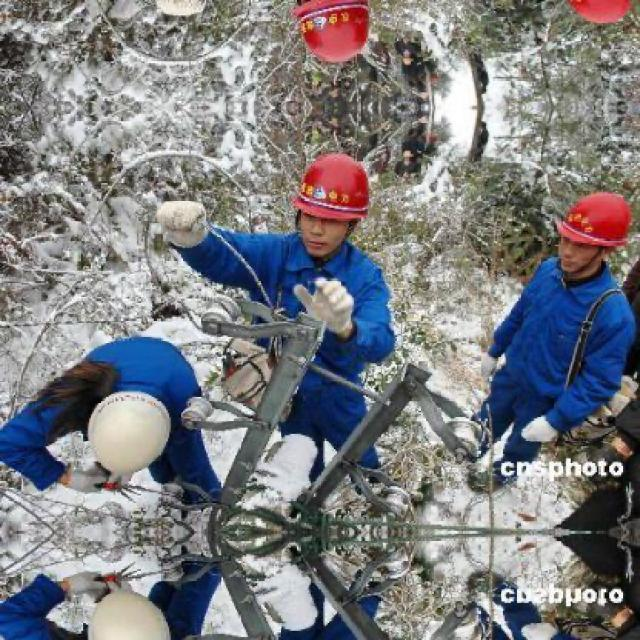helmet: (286, 142, 380, 256), (76, 378, 176, 474), (554, 180, 637, 274), (284, 0, 380, 69), (77, 584, 177, 638), (554, 0, 638, 31)
